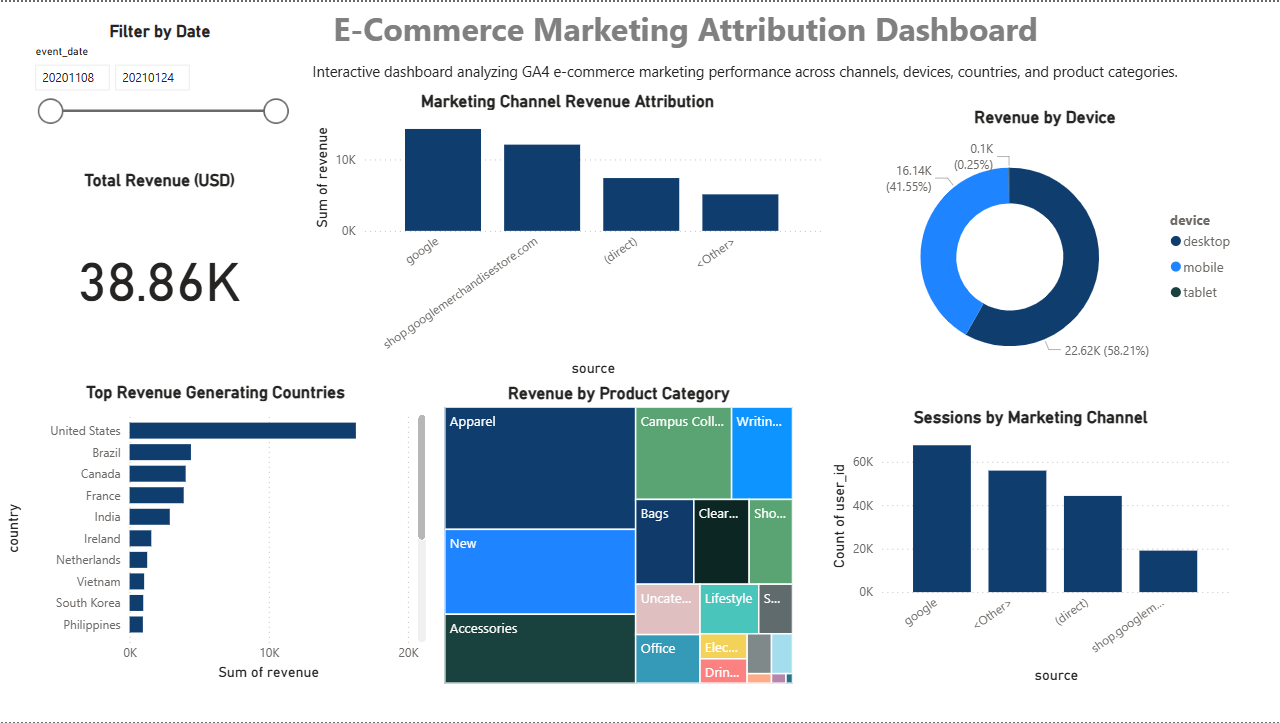

Layout of this report page (visuals, bound fields, positions):
{"tool":"powerbi","page":{"name":"Page 1","canvas":[1280,720],"ordinal":0},"visuals":[{"type":"textbox","box":[215.6,0,941.1,53.3],"z":0},{"type":"columnChart","title":"Marketing Channel Revenue Attribution","fields":{"Y":["Sum(ga4_ecommerce_data.revenue)"],"Category":["ga4_ecommerce_data.source"]},"box":[308.9,88.9,517.8,291.1],"z":1000},{"type":"textbox","box":[0,140,300,165],"z":2000},{"type":"donutChart","title":"Revenue by Device","fields":{"Category":["ga4_ecommerce_data.device"],"Y":["Sum(ga4_ecommerce_data.revenue)"]},"box":[844.4,105.6,400,281.1],"z":3000},{"type":"clusteredBarChart","title":"Top Revenue Generating Countries","fields":{"Category":["ga4_ecommerce_data.country"],"Y":["Sum(ga4_ecommerce_data.revenue)"]},"box":[0,380,431.1,303.3],"z":5000},{"type":"treemap","title":"Revenue by Product Category","fields":{"Group":["ga4_ecommerce_data.product_category"],"Values":["Sum(ga4_ecommerce_data.revenue)"]},"box":[439.7,380.8,357.7,305.1],"z":6000},{"type":"card","title":"Total Revenue (USD)","fields":{"Values":["Sum(ga4_ecommerce_data.revenue)"]},"box":[31.2,167.5,256.2,192.5],"z":8500},{"type":"textbox","box":[307.8,53.3,881.1,35.6],"z":8501},{"type":"clusteredColumnChart","title":"Sessions by Marketing Channel","fields":{"Category":["ga4_ecommerce_data.source"],"Y":["CountNonNull(ga4_ecommerce_data.user_id)"]},"box":[826.7,405.6,408.9,281.1],"z":8502},{"type":"slicer","title":"Filter by Date","fields":{"Values":["ga4_ecommerce_data.event_date"]},"box":[22.5,18.8,275,105],"z":8503}]}

Visuals, with their boxes in screenshot pixels (x1, y1, x2, y2), scaled from the page's 1280x720 canvas onto the 1280x723 screenshot:
textbox: [x1=216, y1=0, x2=1157, y2=54]
"Marketing Channel Revenue Attribution" columnChart: [x1=309, y1=89, x2=827, y2=382]
textbox: [x1=0, y1=141, x2=300, y2=306]
"Revenue by Device" donutChart: [x1=844, y1=106, x2=1244, y2=388]
"Top Revenue Generating Countries" clusteredBarChart: [x1=0, y1=382, x2=431, y2=686]
"Revenue by Product Category" treemap: [x1=440, y1=382, x2=797, y2=689]
"Total Revenue (USD)" card: [x1=31, y1=168, x2=287, y2=362]
textbox: [x1=308, y1=54, x2=1189, y2=89]
"Sessions by Marketing Channel" clusteredColumnChart: [x1=827, y1=407, x2=1236, y2=690]
"Filter by Date" slicer: [x1=22, y1=19, x2=298, y2=124]
